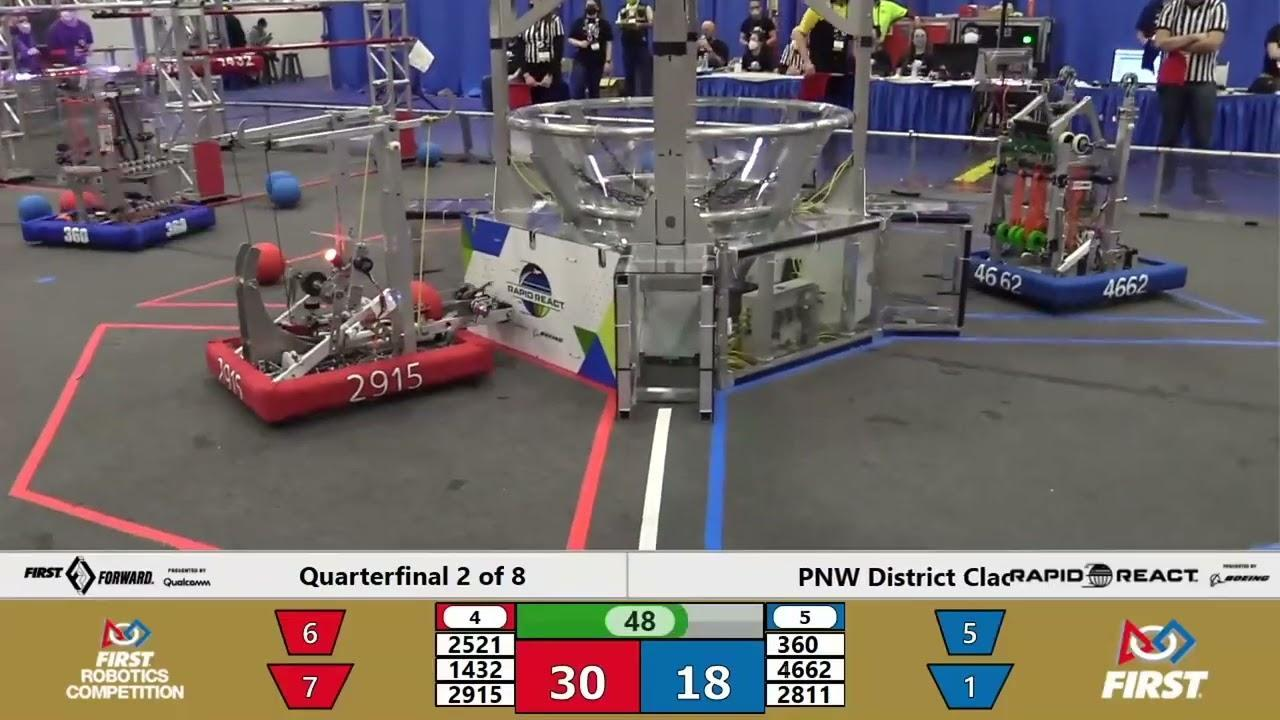robot: (205, 100, 519, 431), (956, 65, 1193, 317), (17, 76, 219, 252)
